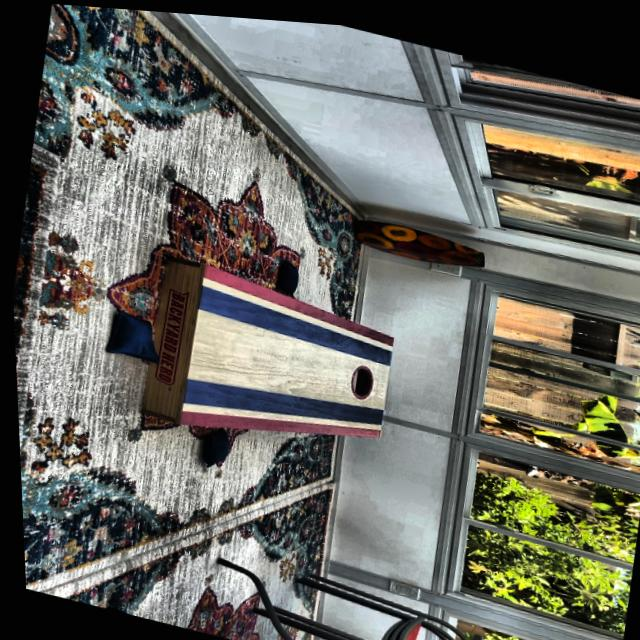blue-bean-bag: (100, 304, 164, 362), (195, 420, 231, 468), (273, 252, 300, 292)
board: (178, 276, 396, 441)
hole: (343, 355, 375, 397)
